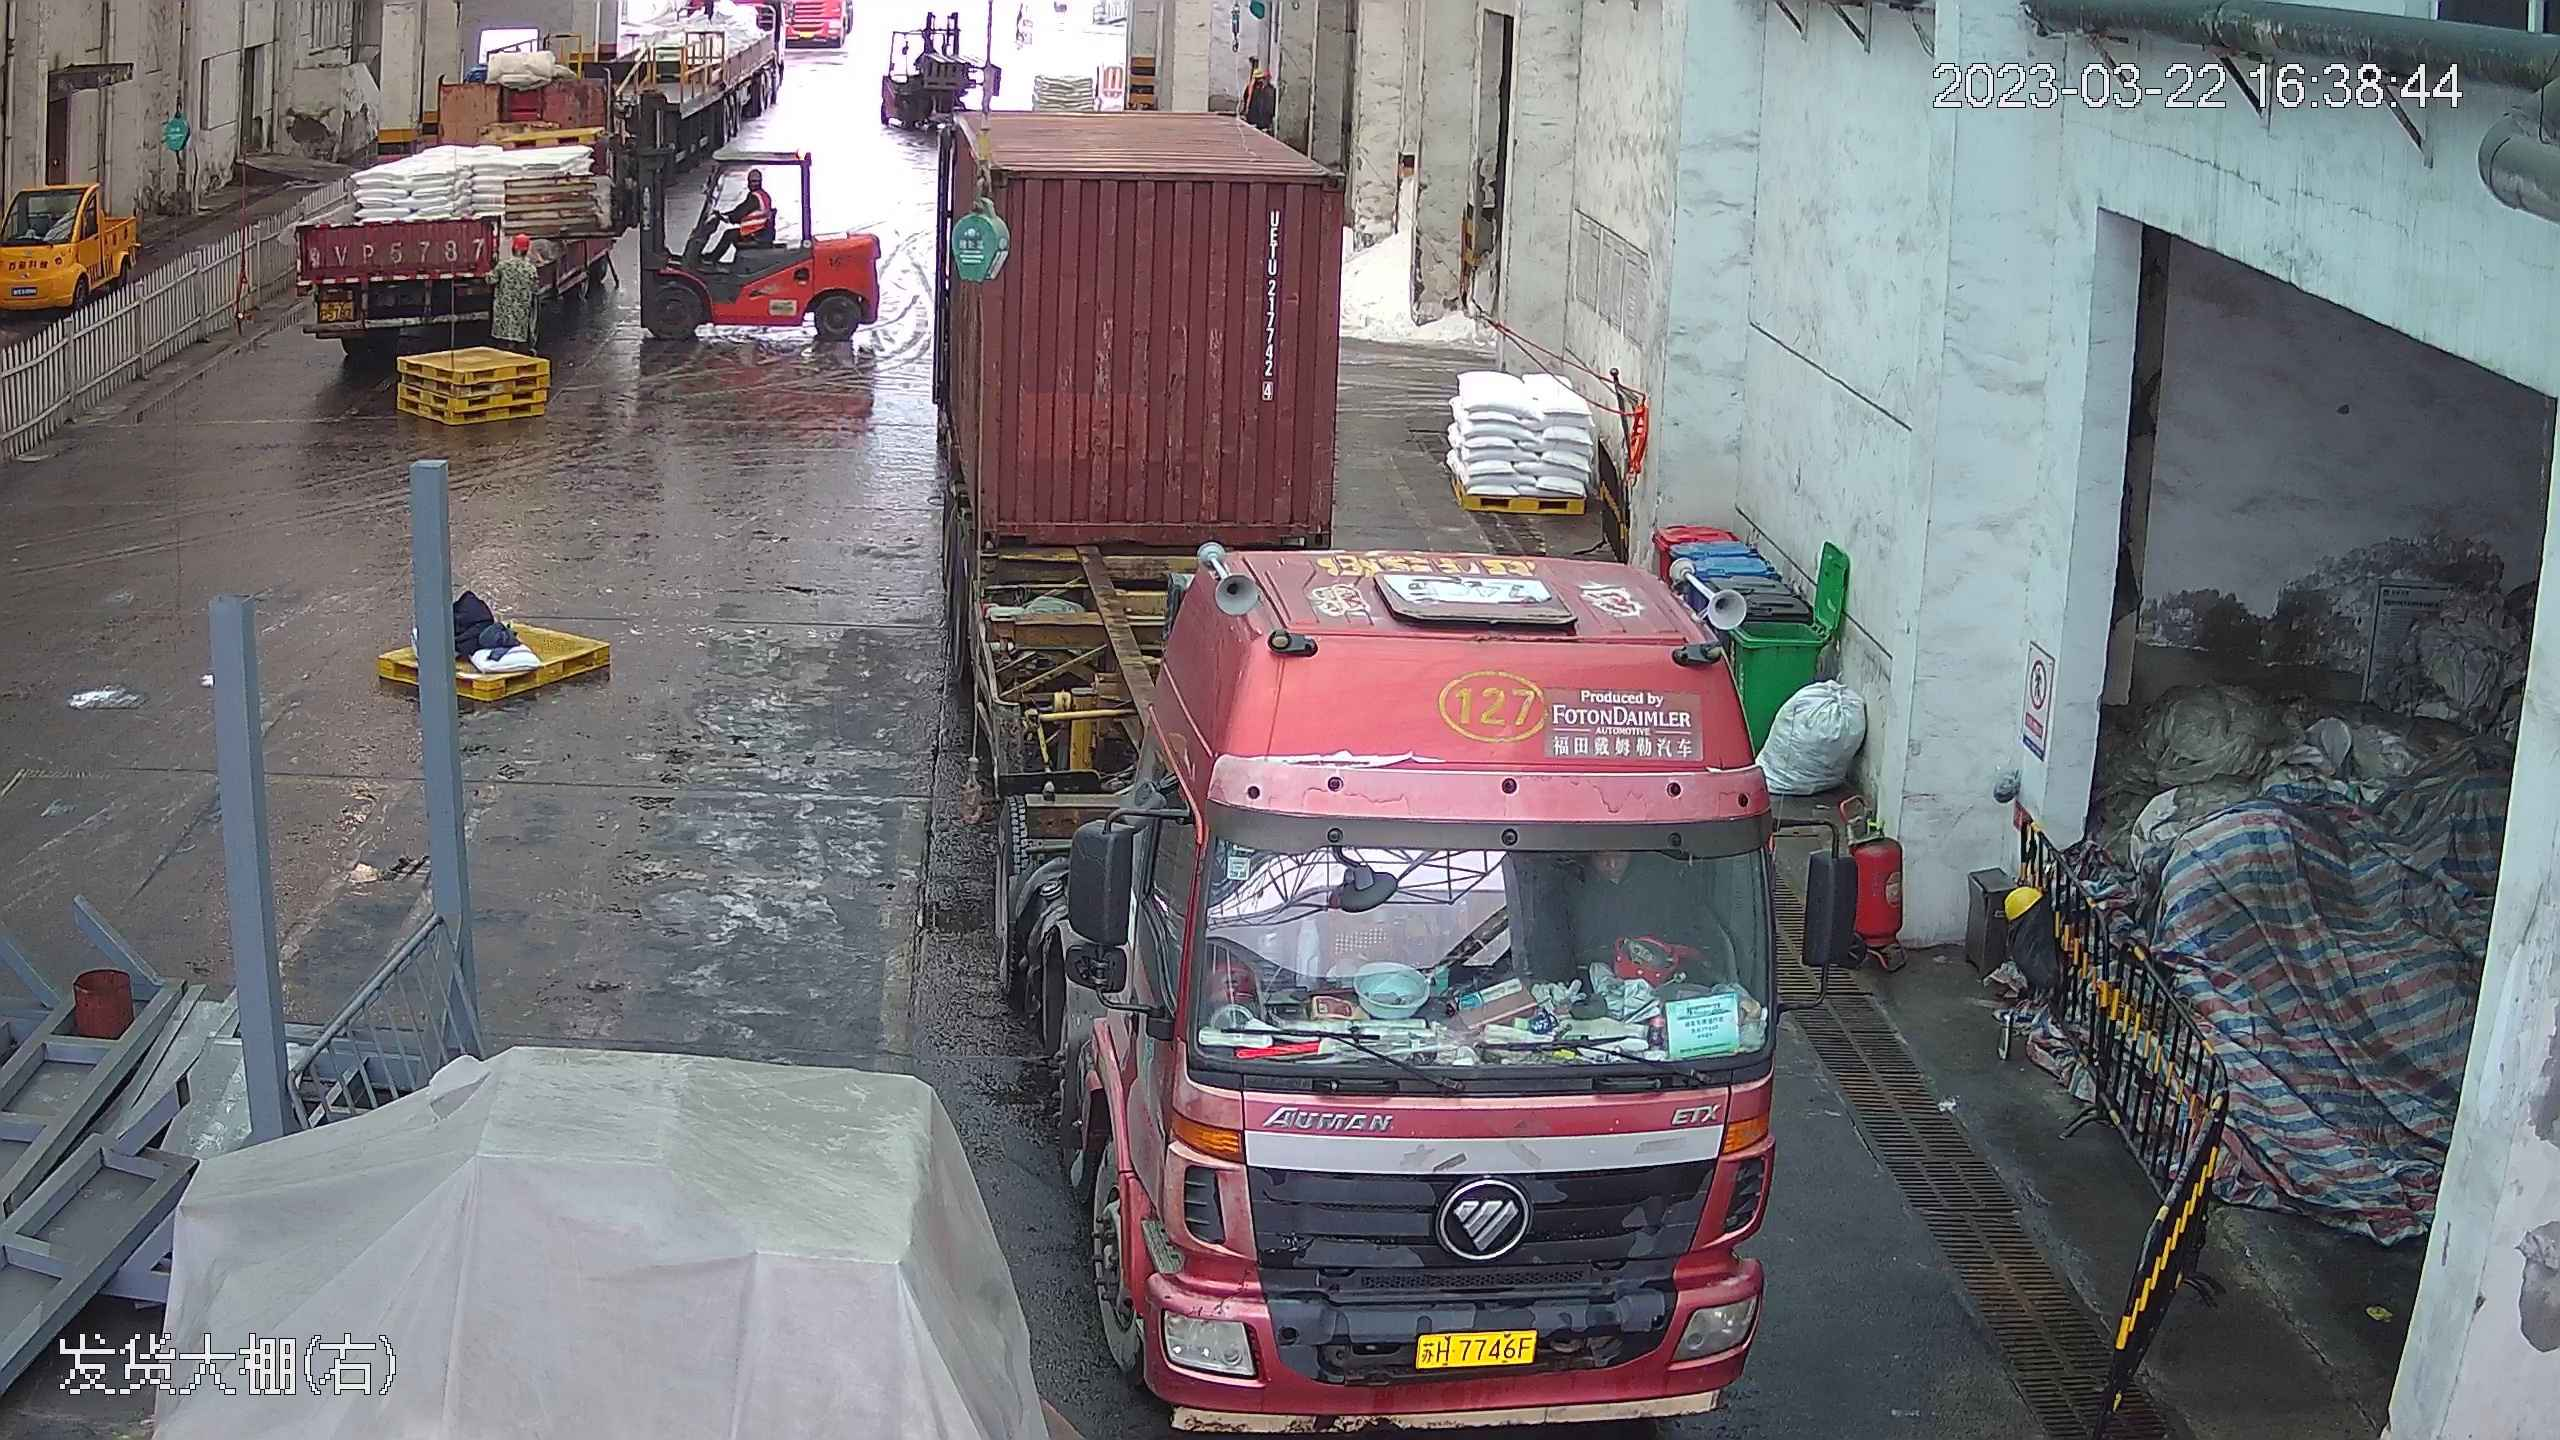belt: (747, 167, 764, 184)
head: (724, 165, 768, 207)
people: (691, 162, 772, 267)
truck: (907, 110, 1817, 1435)
